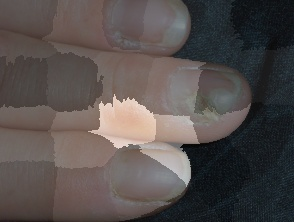Nail_psoriasis: (88, 138, 198, 213), (150, 55, 252, 132), (94, 0, 192, 52)
